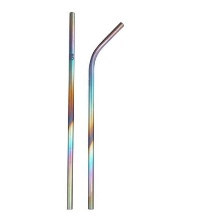drinking_straw: (83, 18, 128, 212), (61, 6, 82, 213)
